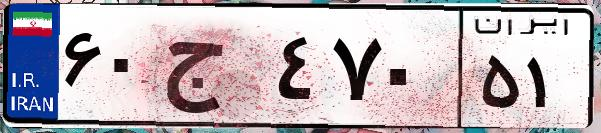0: (385, 28, 445, 110), (110, 28, 158, 98)
1: (525, 38, 570, 115)
4: (270, 28, 330, 110)
5: (475, 38, 525, 113)
6: (57, 26, 110, 100)
7: (330, 28, 385, 110)
ج: (158, 20, 270, 120)
